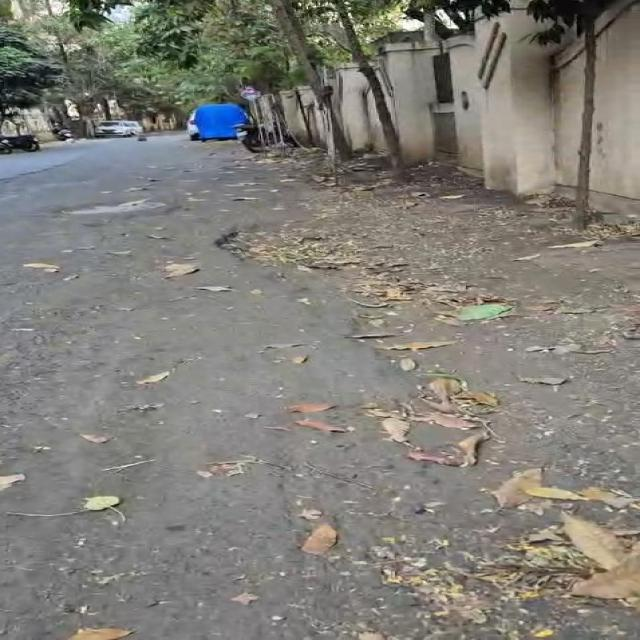tree_trunk: (270, 0, 350, 158), (333, 0, 404, 178), (574, 16, 597, 230), (101, 97, 112, 120)
